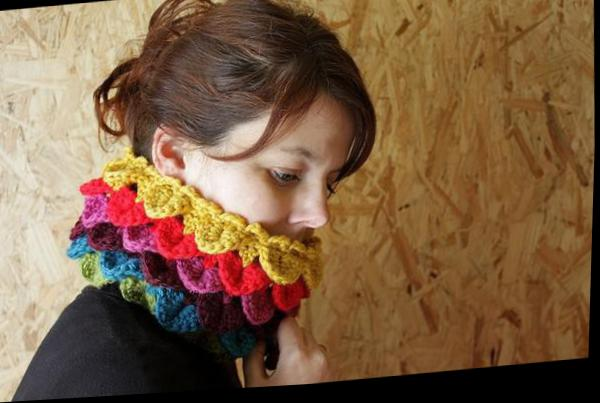WRONG: (161, 130, 347, 320)
